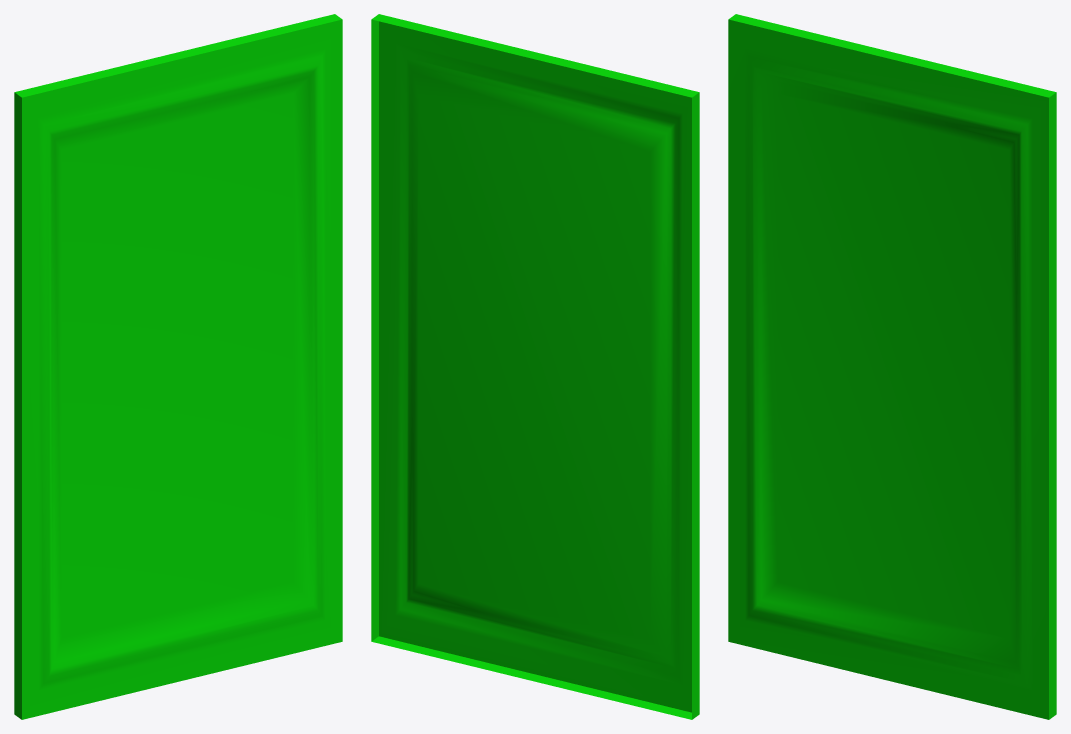
Rendered from SetoPictureFrame2.fbx.
3 views of the same model, side by side, from view 1: azimuth 30°, elevation 25°; view 2: azimuth 150°, elevation 25°; view 3: azimuth 330°, elevation 25° (orthographic).
Visible parts, largest first — view 1: PictureFrame2; view 2: PictureFrame2; view 3: PictureFrame2.
Boxes of the visible parts, left/top/right/bottom form: PictureFrame2: left=14, top=14, right=342, bottom=719; PictureFrame2: left=371, top=14, right=699, bottom=719; PictureFrame2: left=728, top=14, right=1056, bottom=719.
Bounding box in the file's own units: 0.6417 × 1.19 × 0.0315.
